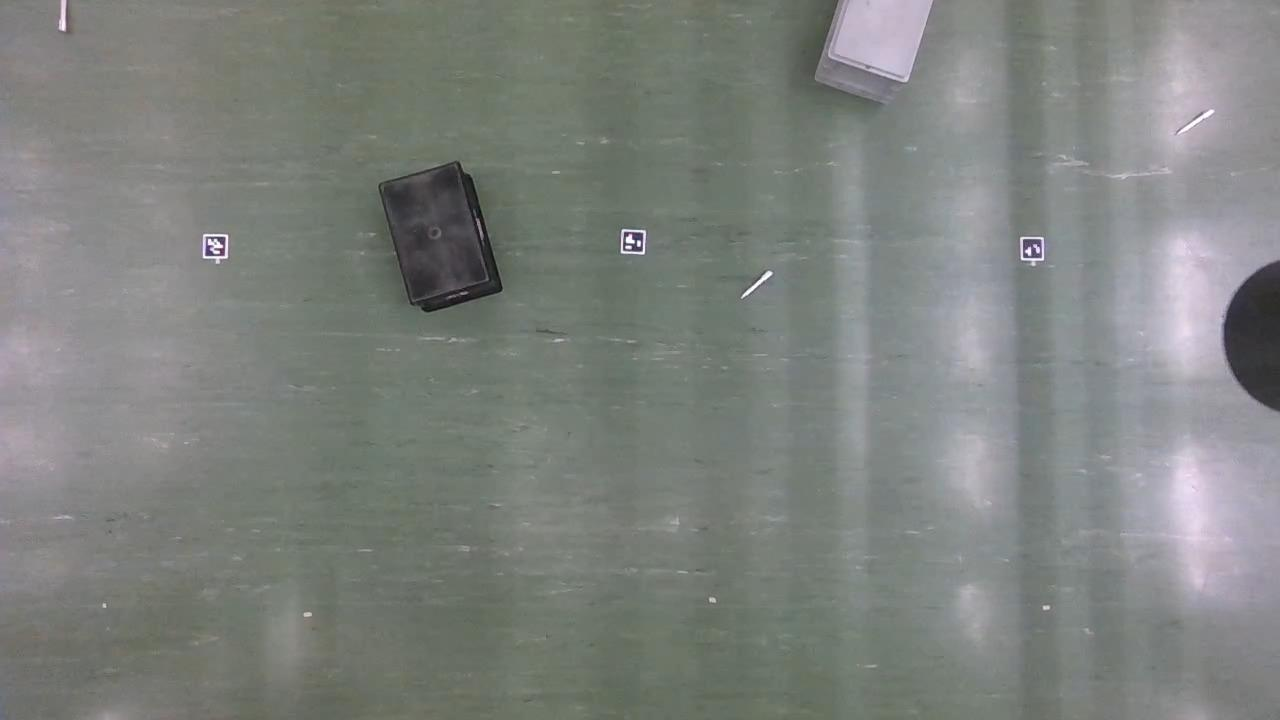probes: (1179, 110, 1211, 136), (743, 272, 770, 300), (59, 0, 69, 33)
rako: (379, 163, 502, 315), (811, 0, 933, 108)
